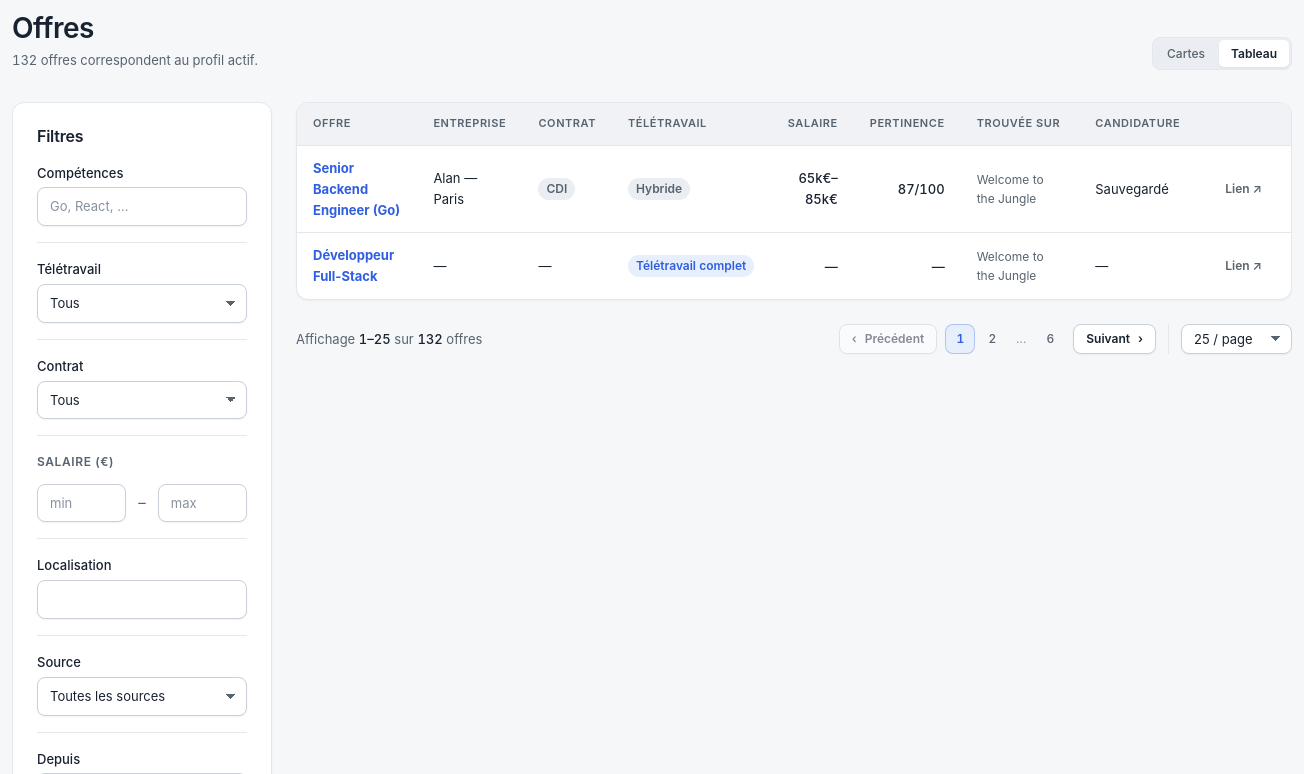
Test: JobsPage › fetches page 2 when "Suivant" is pressed
Expected: the link "Senior Backend Engineer (Go)" is shown, [313,160,400,218]
Expected: the text "Affichage 1–25 sur 132 offres" is shown, [296,329,482,349]
Click the button "Suivant ›" at point(1115, 339), box [1073,324,1156,354]
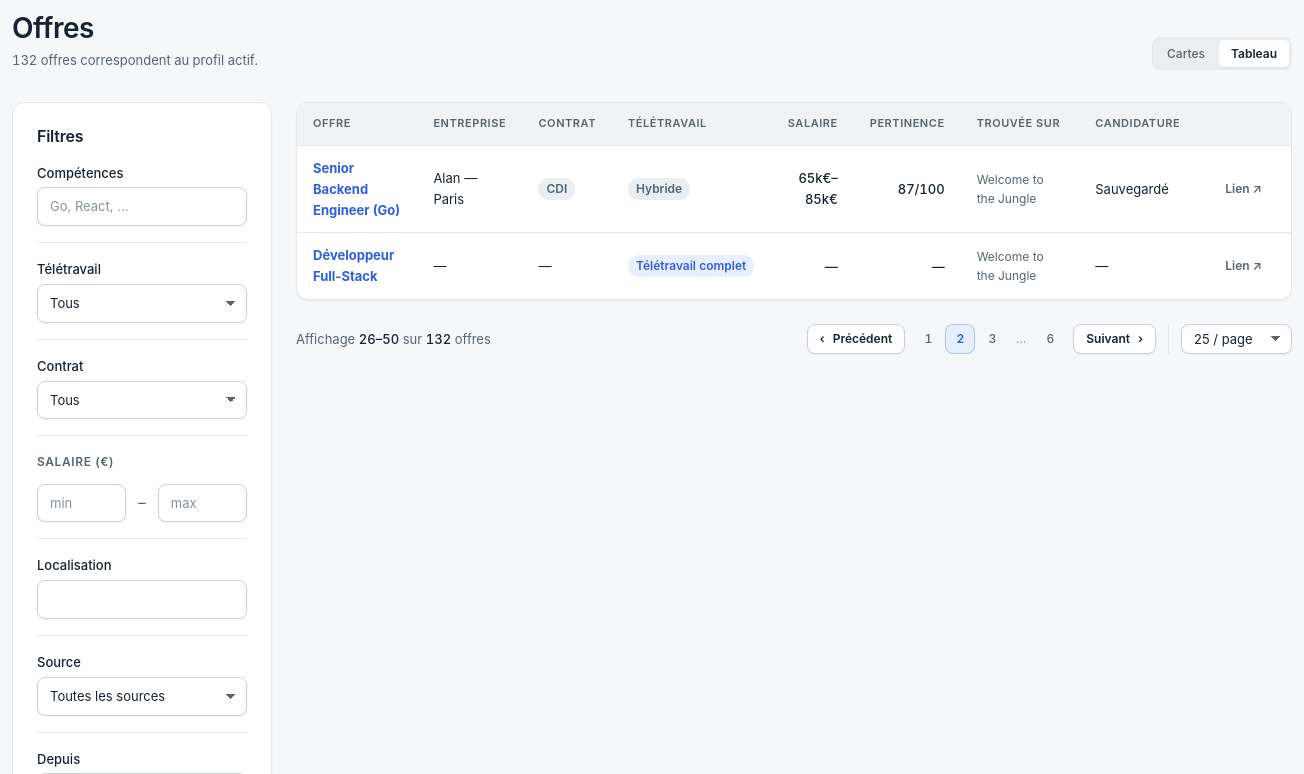
Expected: the text "Affichage 26–50 sur 132 offres" is shown, [296,329,491,349]
